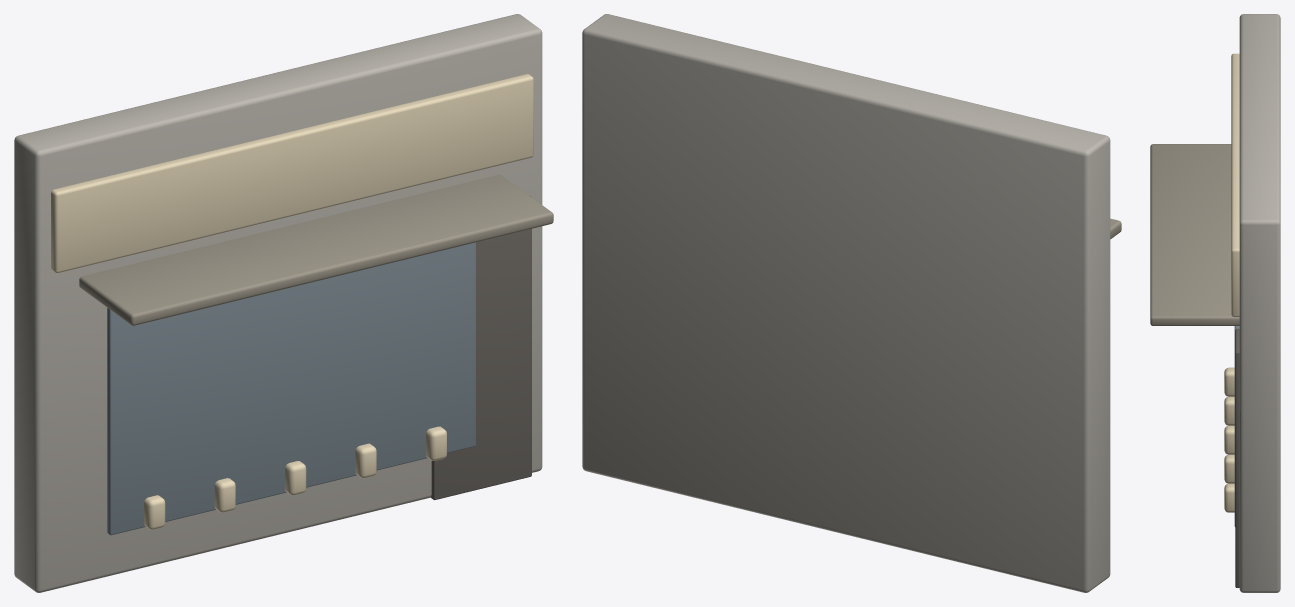
Rendered from cafemax.glb.
3 views of the same model, side by side, from view 1: azimuth 30°, elevation 25°; view 2: azimuth 150°, elevation 25°; view 3: azimuth 270°, elevation 25° (orthographic). The views are drawn at different scales.
Parts seen in each view (by area): view 1: facade, vitrine, bandeau, auvent, porte, gobelet1; view 2: facade; view 3: facade, auvent, bandeau, porte, vitrine, gobelet0, gobelet1, gobelet2, gobelet3, gobelet4.
Part boxes in pixels (x1,y1,x2,y2): facade: (14,14,542,592); vitrine: (107,242,475,535); bandeau: (51,74,533,273); auvent: (79,174,553,325); porte: (430,195,531,500); gobelet1: (214,478,235,512); facade: (582,14,1110,592); facade: (1239,14,1280,592); auvent: (1150,144,1239,325); bandeau: (1231,53,1239,317); porte: (1235,328,1239,587); vitrine: (1234,326,1239,526); gobelet0: (1224,367,1234,396); gobelet1: (1224,396,1234,425); gobelet2: (1224,425,1234,454); gobelet3: (1224,454,1234,483); gobelet4: (1224,483,1234,512).
Bounding box in the file's own units: 3.6 × 3 × 0.95.
